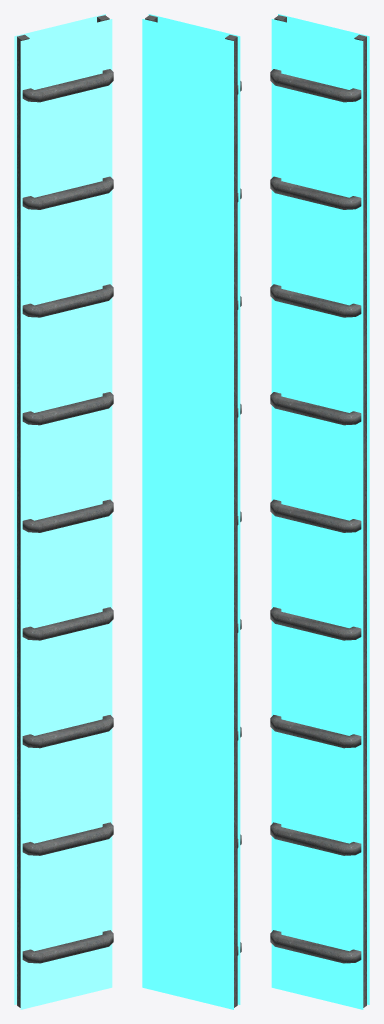
Rendered from yt1300_ladder_l1.fbx.
The picture shows the model from 3 angles, left to right: view 1: azimuth 30°, elevation 25°; view 2: azimuth 150°, elevation 25°; view 3: azimuth 330°, elevation 25°; orthographic projection.
Visible parts, largest first — view 1: mesh_node; view 2: mesh_node; view 3: mesh_node.
Boxes of the visible parts, x1,y1,x2,y2 form: mesh_node: (14,14,113,1009); mesh_node: (142,14,241,1009); mesh_node: (270,14,369,1009).
Bounding box in the file's own units: 0.5345 × 5.4 × 0.148.
